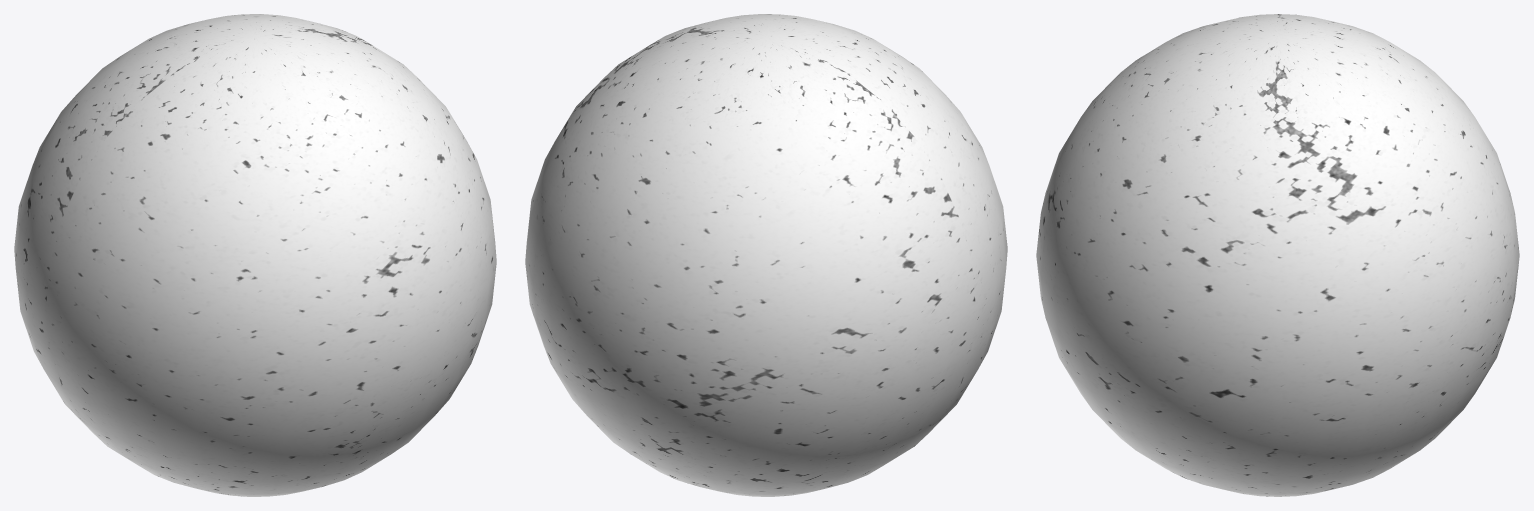
File: backscatter.obj
3 renders of one model, left to right at view 1: azimuth 30°, elevation 25°; view 2: azimuth 150°, elevation 25°; view 3: azimuth 270°, elevation 25°, orthographic.
Visible parts, largest first — view 1: Sphere.002; view 2: Sphere.002; view 3: Sphere.002.
Part boxes in pixels (x1,y1,x2,y2): Sphere.002: (14, 14, 496, 496); Sphere.002: (525, 14, 1007, 496); Sphere.002: (1036, 14, 1519, 496).
Bounding box in the file's own units: 1 × 1 × 1.
Materials: 3 (3 with a texture image).
